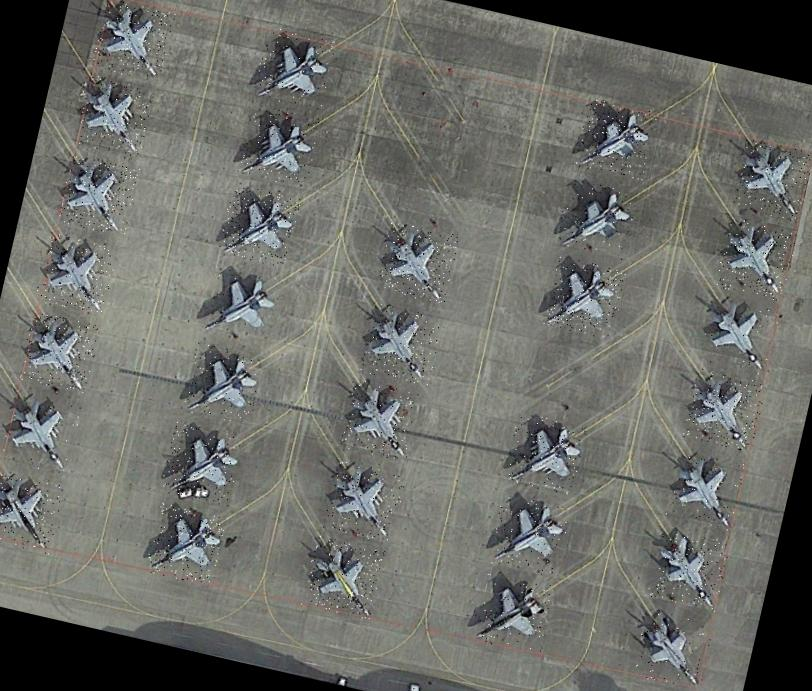A16: (198, 260, 282, 346), (323, 458, 407, 544), (488, 492, 572, 578), (714, 216, 798, 302), (647, 526, 731, 612), (71, 73, 155, 158), (17, 310, 102, 394), (238, 104, 322, 189), (218, 183, 302, 268), (181, 341, 265, 426), (160, 421, 244, 506), (360, 302, 444, 387), (338, 377, 422, 462), (301, 535, 385, 620), (574, 97, 658, 182), (544, 255, 628, 340), (504, 411, 588, 496), (472, 570, 556, 655), (699, 292, 783, 377), (664, 447, 748, 532), (56, 153, 140, 237), (34, 232, 118, 316), (376, 220, 460, 304), (554, 176, 638, 260), (682, 368, 766, 452), (631, 607, 715, 691), (253, 26, 336, 111), (145, 502, 228, 587), (91, 0, 175, 83), (0, 391, 82, 476), (730, 137, 812, 222), (0, 469, 65, 554)
